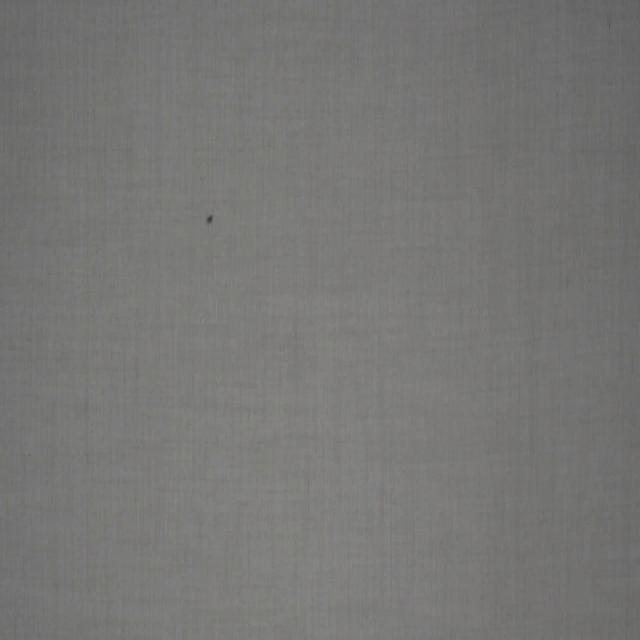dirty: (206, 211, 214, 229)
